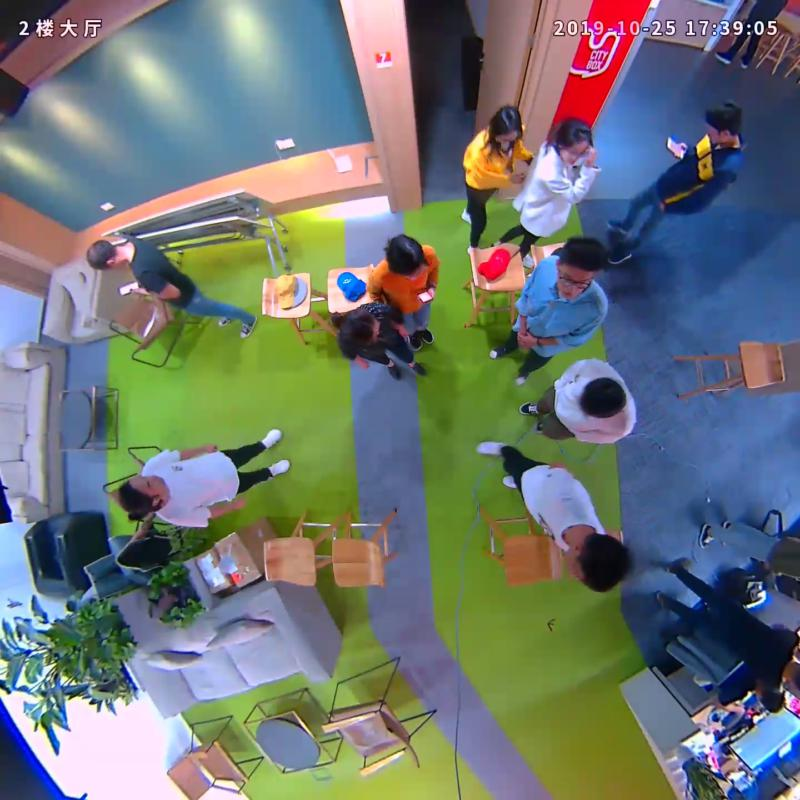head: (563, 533, 631, 594), (557, 237, 604, 299), (580, 378, 627, 419), (555, 116, 593, 165), (704, 99, 743, 146), (386, 234, 425, 276), (119, 475, 164, 510), (340, 309, 379, 346), (489, 104, 523, 146), (86, 240, 121, 271)
